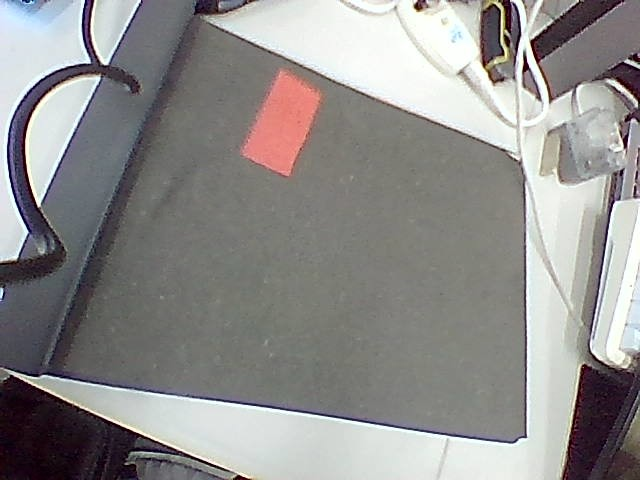card: (241, 69, 318, 176)
